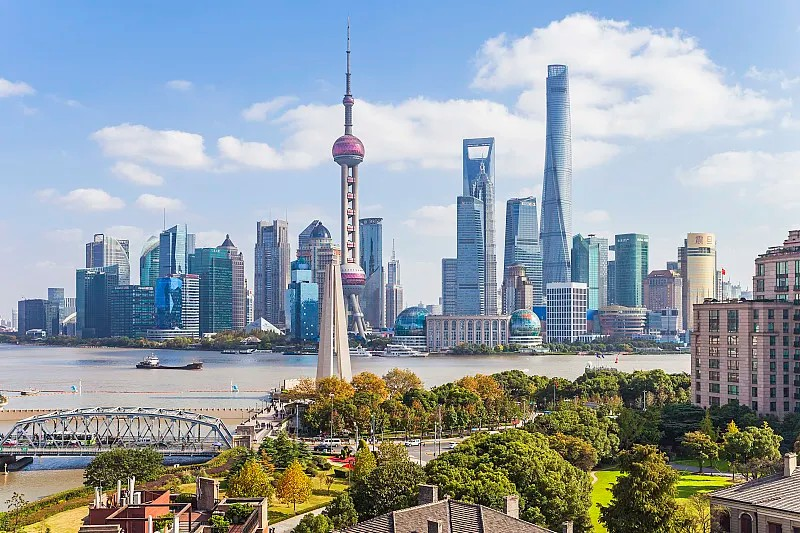Oriental: (332, 16, 367, 340)
